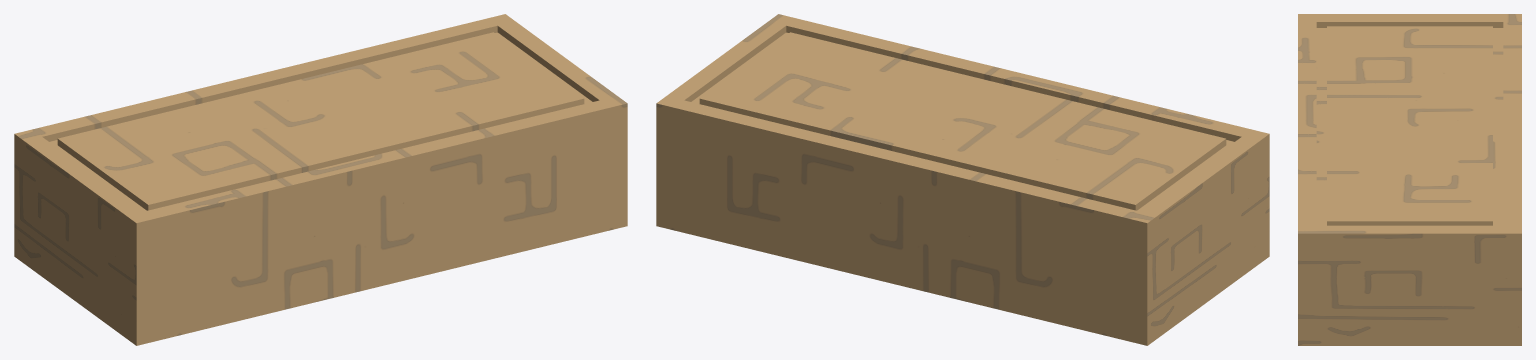
Rendered from Mesh_PlatformLong2.glb.
3 views of the same model, side by side, from view 1: azimuth 30°, elevation 25°; view 2: azimuth 150°, elevation 25°; view 3: azimuth 270°, elevation 25° (orthographic). The views are drawn at different scales.
Visible parts, largest first — view 1: Cube.074-convcol; view 2: Cube.074-convcol; view 3: Cube.074-convcol.
Part boxes in pixels (x1=…): Cube.074-convcol: x1=14, y1=14, x2=627, y2=345; Cube.074-convcol: x1=656, y1=14, x2=1269, y2=345; Cube.074-convcol: x1=1298, y1=14, x2=1521, y2=345.
Size of the model in its own units: 29.31 by 7 by 12.63.
Materials: 1 (1 with a texture image).
